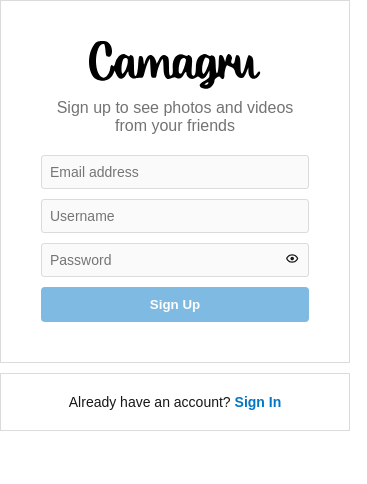
it: Basic RegisterForm tests › submit button is actuve when fields are filled
Step 1. Type "username@g,ail.com" into the field with test id "email" → (175, 172), box [41,155,309,189]
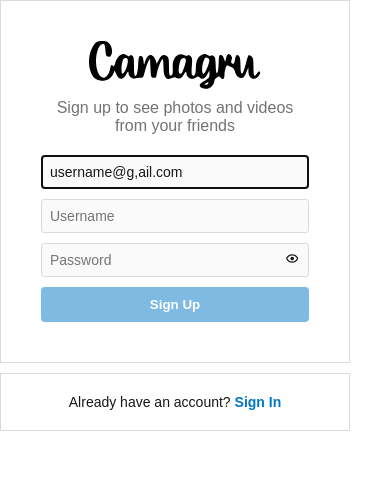
Step 2. Type "username" into the field with test id "username" → (175, 216), box [41,199,309,233]
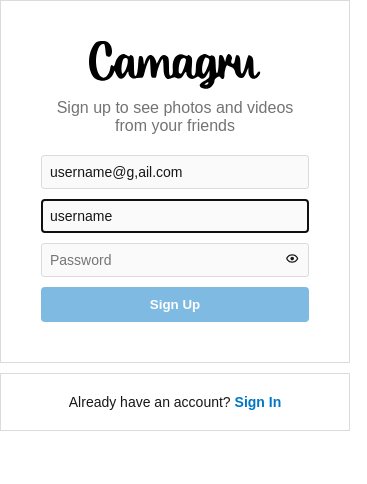
Step 3. Type "StrongPass!1234" into the password field with test id "password" → (175, 260), box [41,243,309,277]
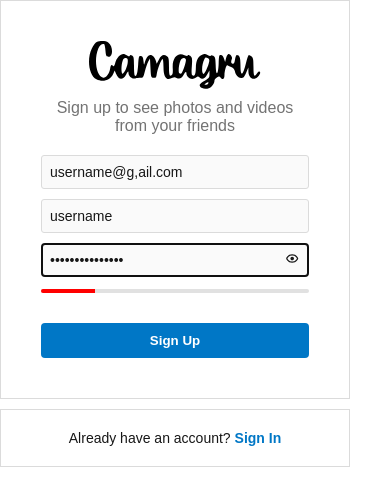
Now the button with test id "register-button" is enabled, box [41,323,309,358]
